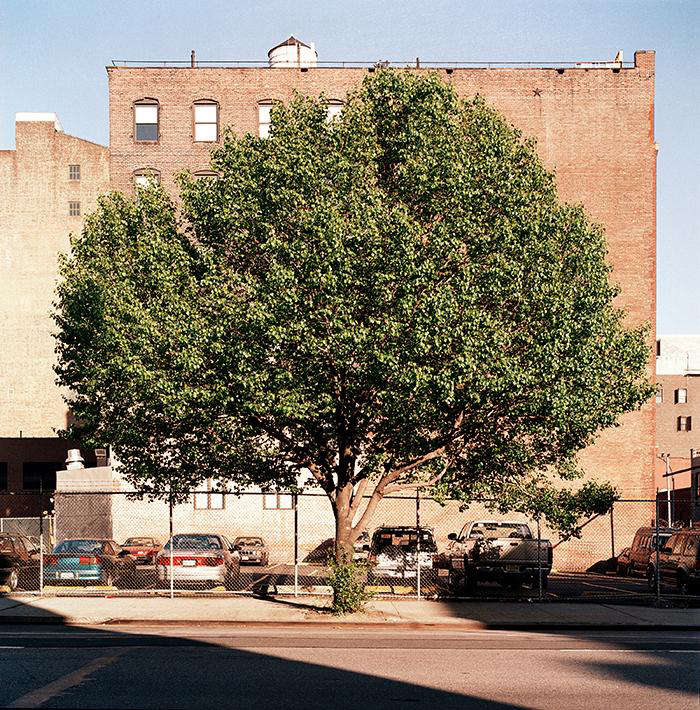tree: (54, 66, 659, 615)
